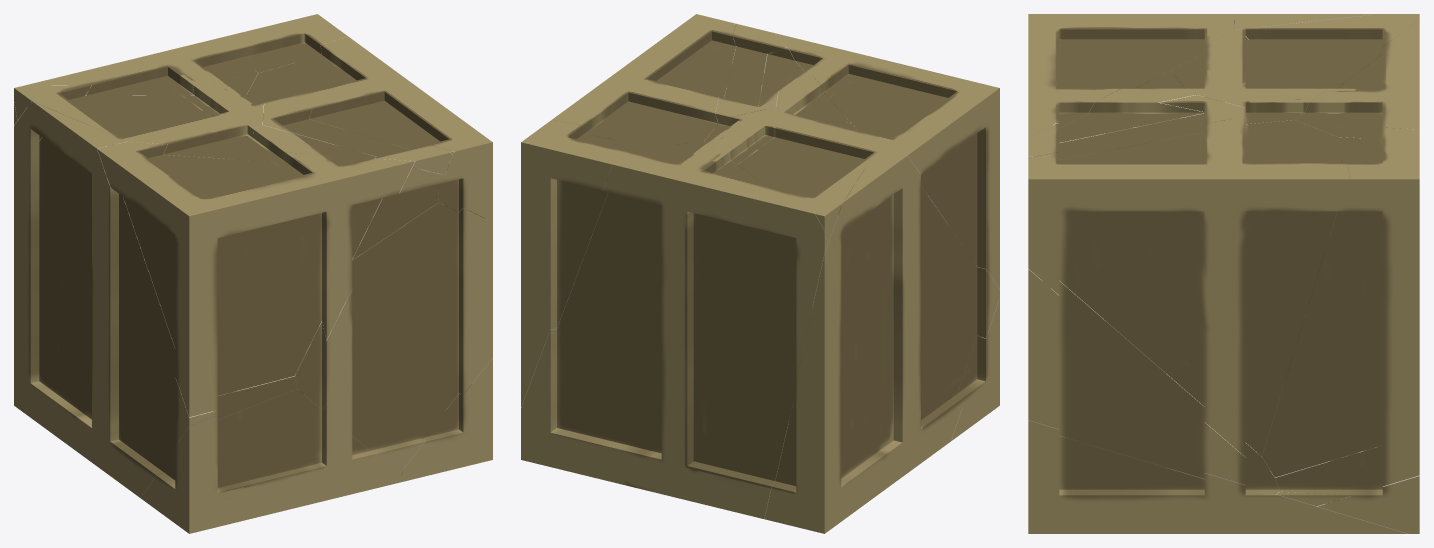
The model's file is crate_fracture.fbx.
3 renders of one model, left to right at view 1: azimuth 30°, elevation 25°; view 2: azimuth 150°, elevation 25°; view 3: azimuth 270°, elevation 25°, orthographic. The views are drawn at different scales.
Parts seen in each view (by area): view 1: Cube_cell.001, Cube_cell, Cube_cell.004_cell.005, Cube_cell.002, Cube_cell.004_cell.003, Cube_cell.004_cell.001, Cube_cell.004_cell, Cube_cell.004_cell.007, Cube_cell.003, Cube_cell.004_cell.004, Cube_cell.004_cell.006; view 2: Cube_cell.004_cell, Cube_cell, Cube_cell.001, Cube_cell.004_cell.006, Cube_cell.004_cell.003, Cube_cell.004_cell.001, Cube_cell.004_cell.004, Cube_cell.004_cell.007, Cube_cell.002; view 3: Cube_cell.004_cell.003, Cube_cell.004_cell.006, Cube_cell.004_cell.005, Cube_cell.003, Cube_cell.001, Cube_cell.004_cell.001, Cube_cell.004_cell, Cube_cell.004_cell.004, Cube_cell.004_cell.007, Cube_cell, Cube_cell.004_cell.008.
Part boxes in pixels (box(x1,y1,x2,y2)): Cube_cell.001: box(97, 142, 414, 417); Cube_cell: box(14, 101, 297, 498); Cube_cell.004_cell.005: box(294, 202, 492, 468); Cube_cell.002: box(141, 389, 402, 533); Cube_cell.004_cell.003: box(247, 36, 492, 222); Cube_cell.004_cell.001: box(14, 84, 264, 157); Cube_cell.004_cell: box(14, 36, 257, 125); Cube_cell.004_cell.007: box(210, 125, 445, 259); Cube_cell.003: box(400, 358, 492, 482); Cube_cell.004_cell.004: box(263, 99, 452, 174); Cube_cell.004_cell.006: box(226, 14, 348, 73); Cube_cell.004_cell: box(521, 140, 827, 518); Cube_cell: box(764, 148, 999, 533); Cube_cell.001: box(774, 33, 999, 288); Cube_cell.004_cell.006: box(521, 119, 653, 406); Cube_cell.004_cell.003: box(552, 14, 736, 147); Cube_cell.004_cell.001: box(704, 107, 878, 243); Cube_cell.004_cell.004: box(715, 24, 785, 123); Cube_cell.004_cell.007: box(758, 47, 850, 123); Cube_cell.002: box(951, 298, 999, 440); Cube_cell.004_cell.003: box(1028, 116, 1350, 456); Cube_cell.004_cell.006: box(1262, 127, 1419, 486); Cube_cell.004_cell.005: box(1028, 269, 1279, 494); Cube_cell.003: box(1028, 420, 1407, 533); Cube_cell.001: box(1028, 14, 1234, 136); Cube_cell.004_cell.001: box(1171, 14, 1419, 124); Cube_cell.004_cell: box(1275, 19, 1419, 533); Cube_cell.004_cell.004: box(1028, 95, 1245, 159); Cube_cell.004_cell.007: box(1053, 70, 1203, 142); Cube_cell: box(1234, 14, 1378, 39); Cube_cell.004_cell.008: box(1277, 491, 1352, 506).
Size of the model in its own units: 372 by 372 by 372.
